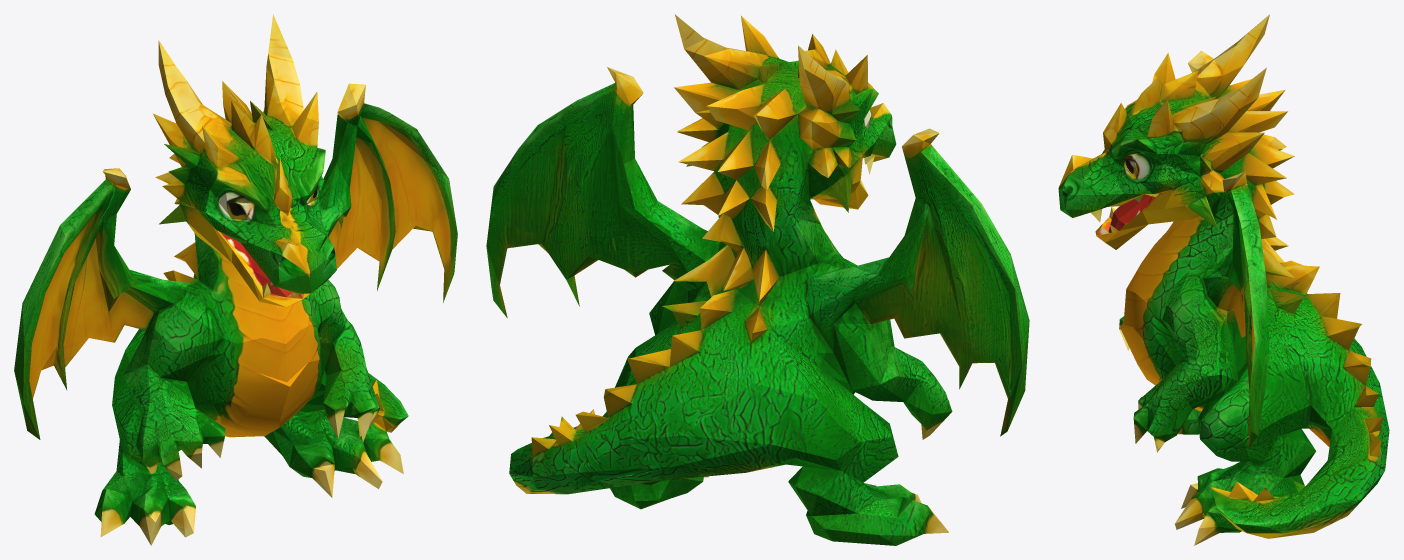
File: base_basic_pbr.fbx
3 views of the same model, side by side, from view 1: azimuth 30°, elevation 25°; view 2: azimuth 150°, elevation 25°; view 3: azimuth 270°, elevation 25° (orthographic). The views are drawn at different scales.
Parts seen in each view (by area): view 1: model; view 2: model; view 3: model.
Boxes of the visible parts, x1=… form: model: x1=14, y1=14, x2=457, y2=545; model: x1=486, y1=14, x2=1029, y2=545; model: x1=1058, y1=14, x2=1389, y2=545.
Bounding box in the file's own units: 190 × 179 × 123.
Materials: 1 (1 with a texture image).
